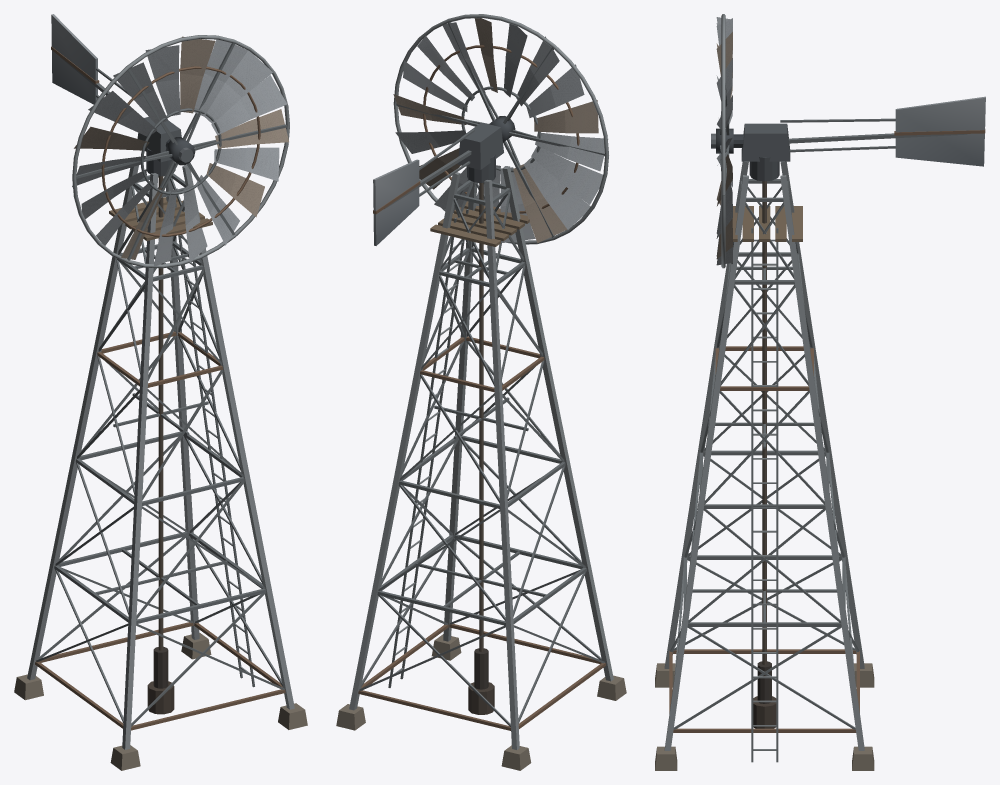
The model's file is windmill.glb.
The picture shows the model from 3 angles, left to right: view 1: azimuth 30°, elevation 25°; view 2: azimuth 150°, elevation 25°; view 3: azimuth 270°, elevation 25°; orthographic projection. The views are drawn at different scales.
Parts seen in each view (by area): view 1: windmill, wheel; view 2: windmill, wheel; view 3: windmill, wheel.
Part boxes in pixels (x1,y1,x2,y2): windmill: (14,14,307,770); wheel: (72,35,289,268); windmill: (336,122,626,770); wheel: (393,14,608,244); windmill: (655,96,985,770); wheel: (711,14,733,268).
Size of the model in its own units: 4.1 by 12.38 by 5.31.
